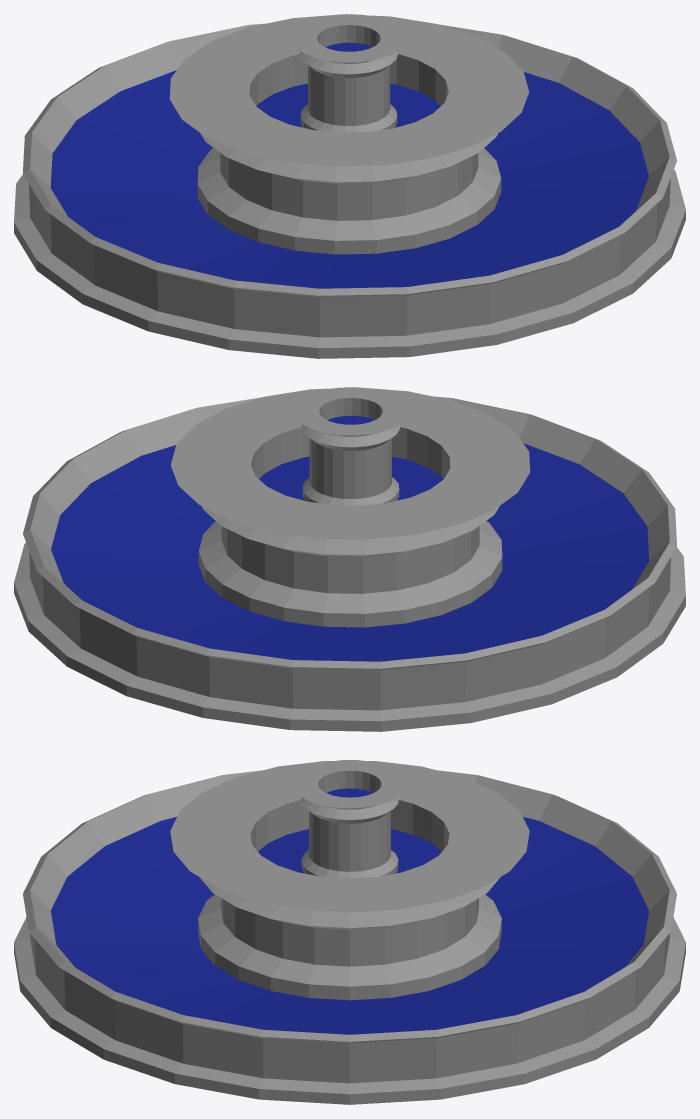
File: xafariz.FBX
3 renders of one model, top to bottom at view 1: azimuth 30°, elevation 25°; view 2: azimuth 150°, elevation 25°; view 3: azimuth 270°, elevation 25°, orthographic.
Parts seen in each view (by area): view 1: Cylinder001; view 2: Cylinder001; view 3: Cylinder001.
Part boxes in pixels (<box>): Cylinder001: <box>14,14,685,358</box>; Cylinder001: <box>14,387,685,731</box>; Cylinder001: <box>14,760,685,1104</box>.
Size of the model in its own units: 92.44 by 27.14 by 92.65.
